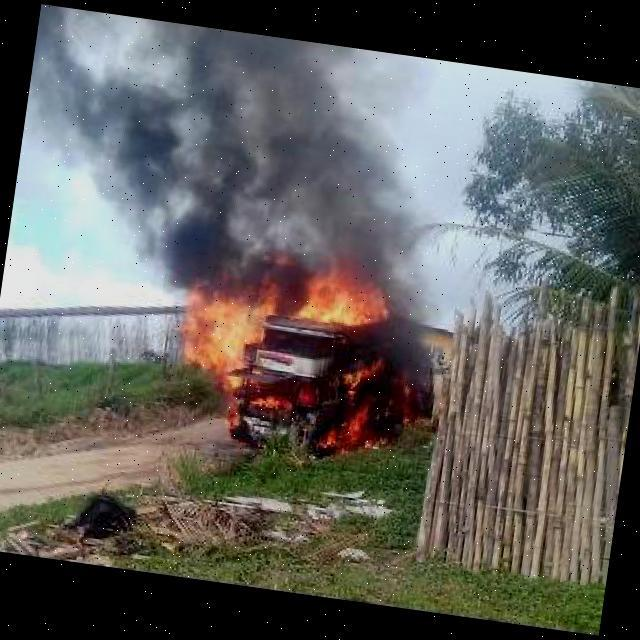Fire: (179, 272, 283, 393), (293, 253, 388, 325), (322, 394, 374, 458), (250, 390, 292, 411)
Smoke: (8, 5, 340, 298), (378, 196, 460, 367)
